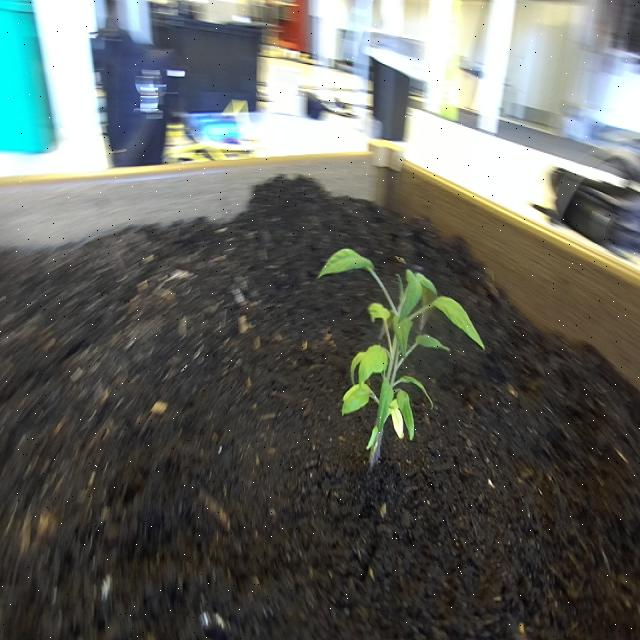Healthy: (316, 240, 492, 483)
